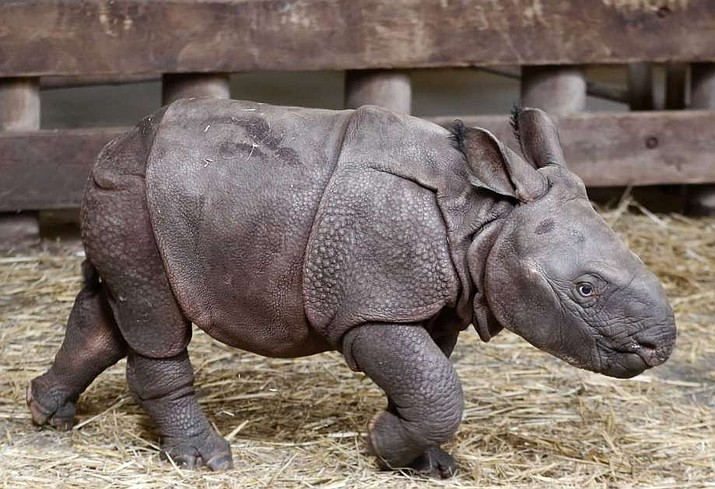rhinoceros: (19, 86, 684, 489)
